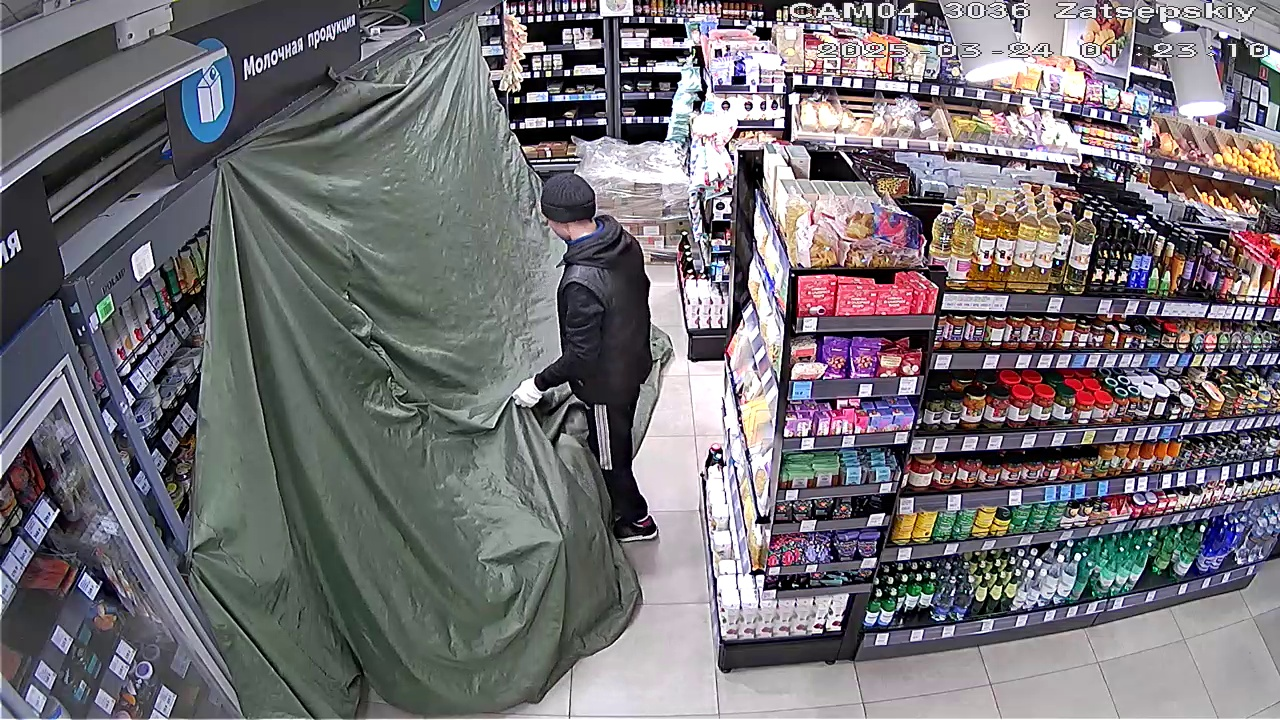Human: (502, 166, 687, 537)
dome: (193, 29, 640, 718)
pallet: (567, 127, 703, 275)
